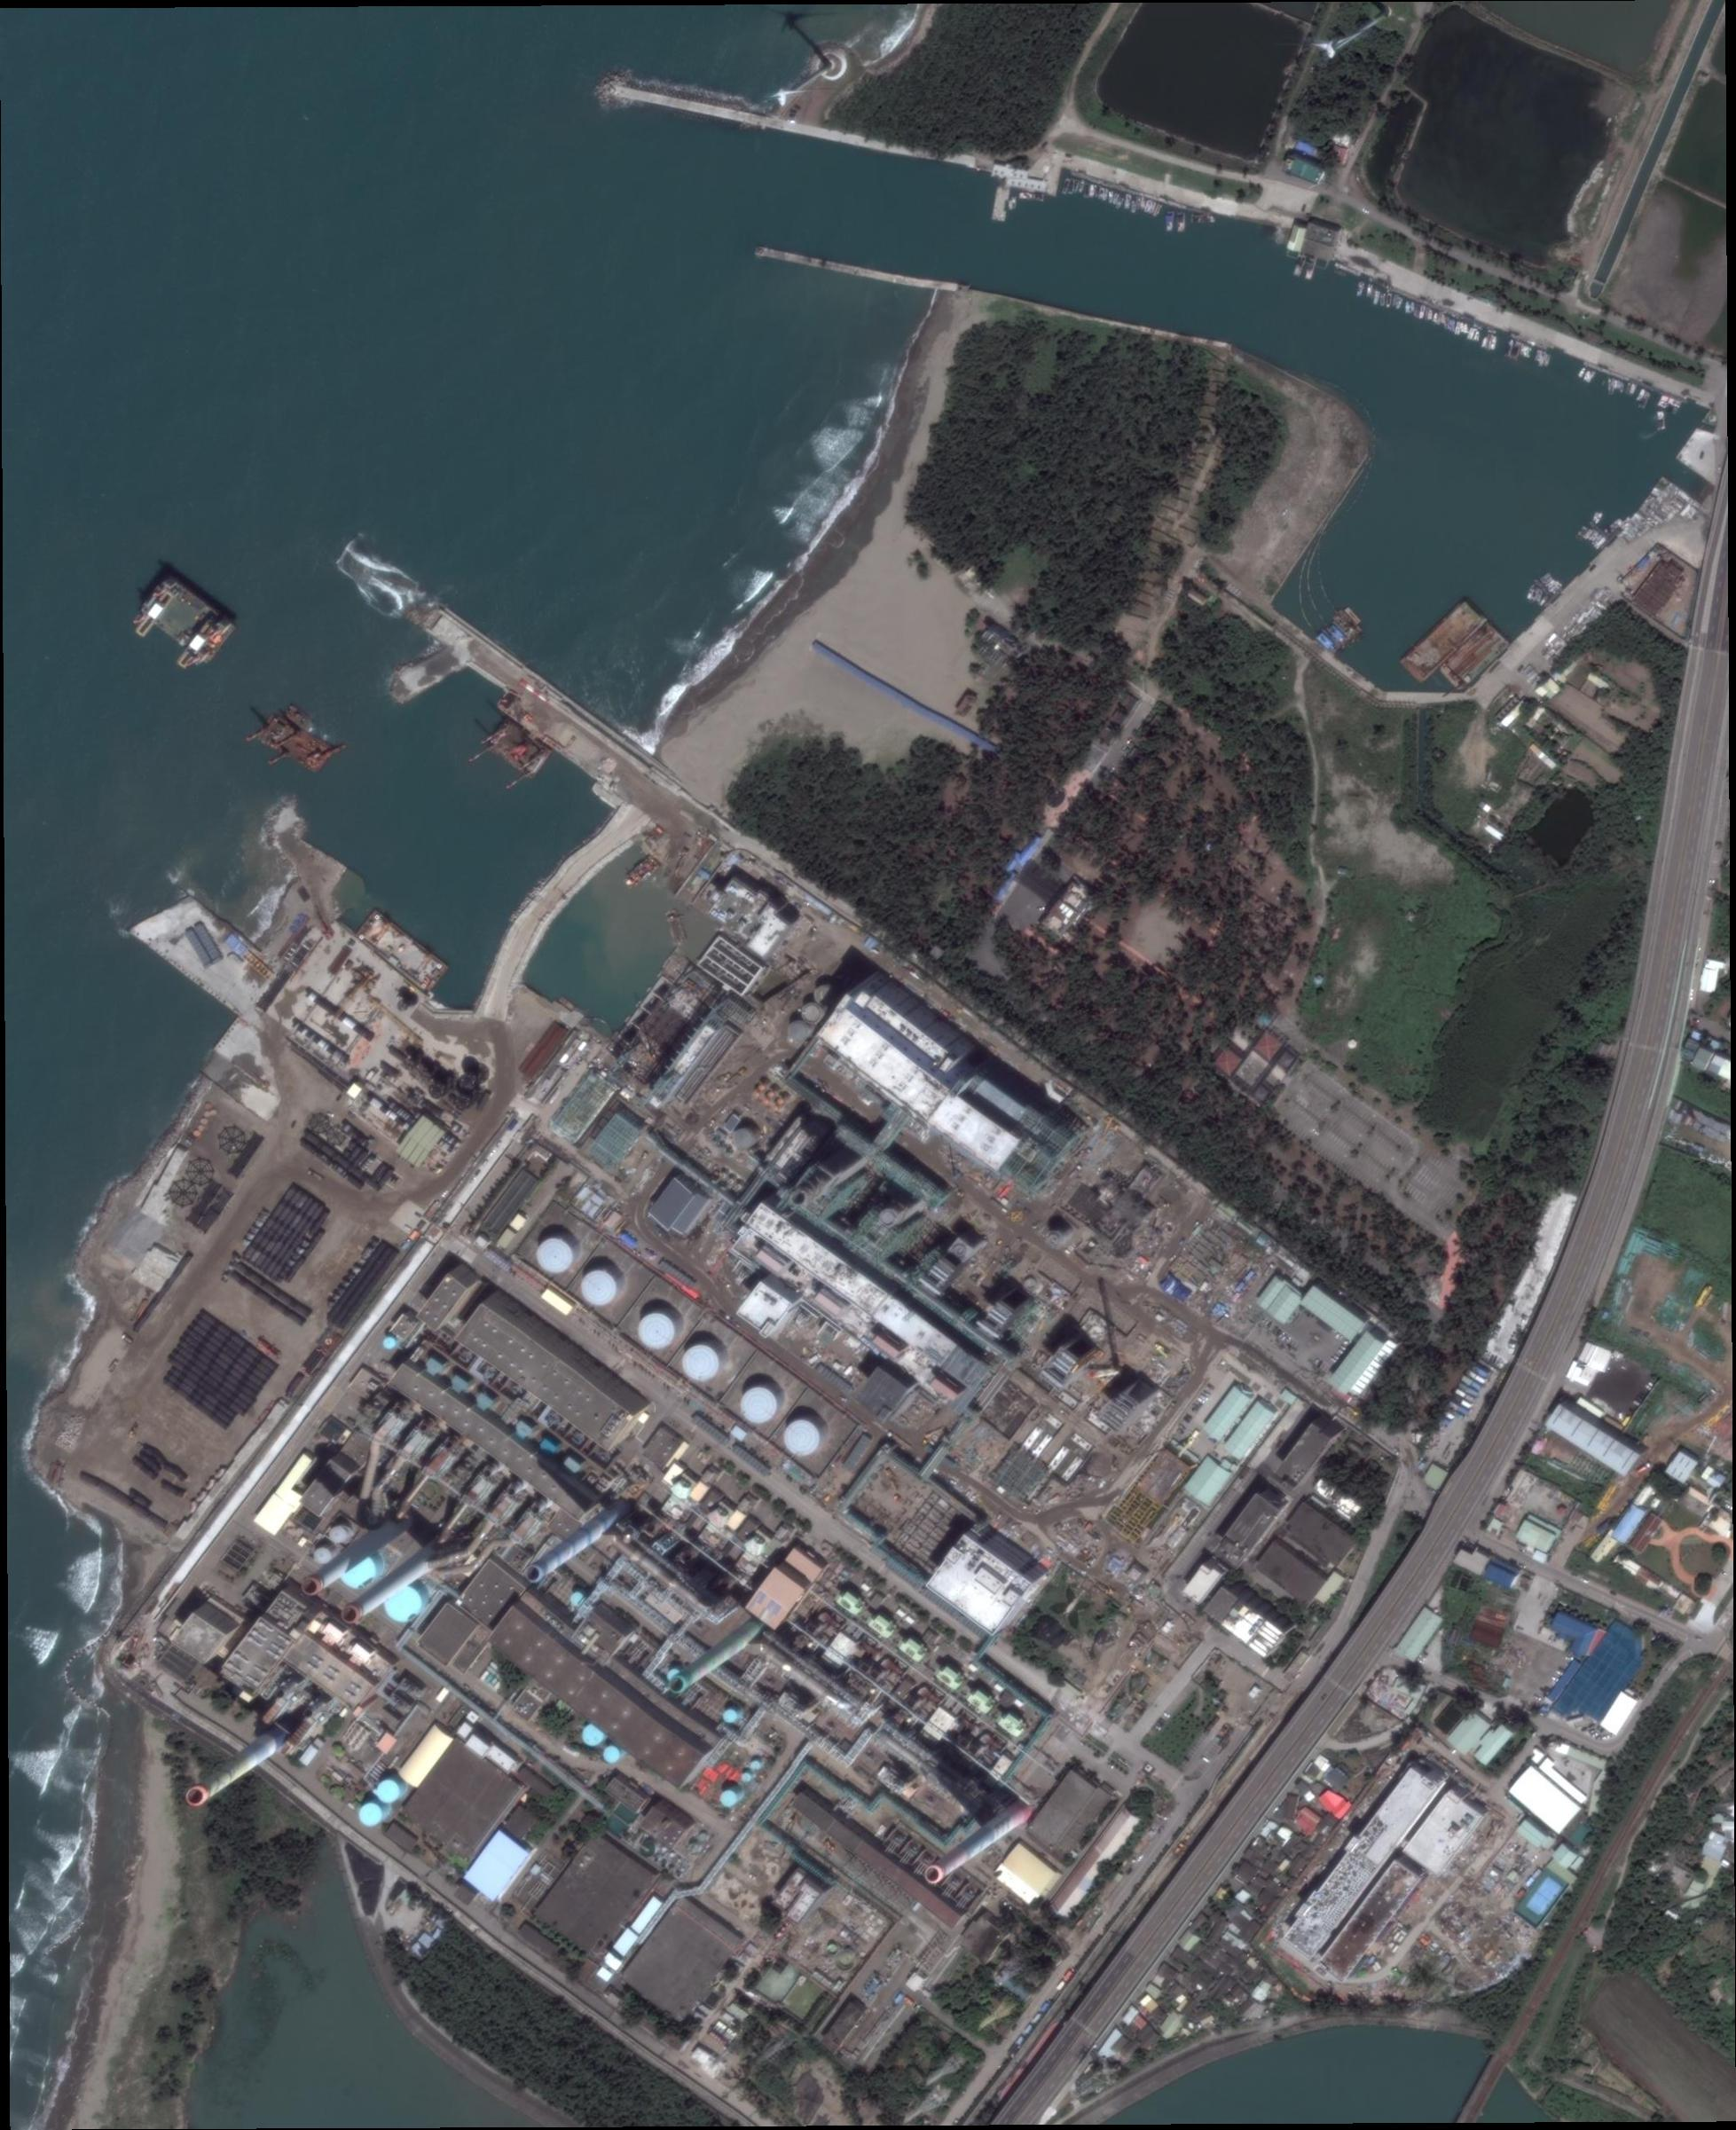harbor: (756, 246, 940, 290)
ship: (356, 908, 449, 996), (1396, 598, 1488, 686), (1439, 623, 1509, 693)
